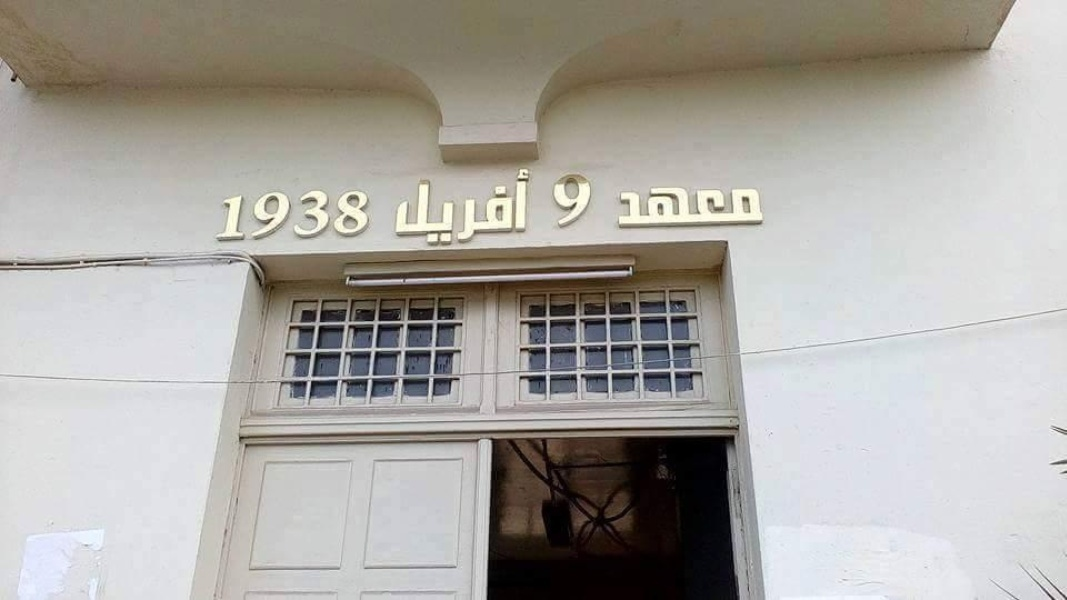text: (401, 167, 416, 248), (417, 167, 432, 248), (433, 167, 448, 248), (449, 167, 464, 248), (465, 167, 480, 248), (481, 167, 496, 248), (497, 167, 512, 248), (513, 167, 528, 248), (577, 173, 593, 231), (225, 183, 240, 242), (241, 183, 256, 242), (257, 183, 272, 242), (273, 183, 288, 242), (289, 183, 304, 242), (305, 183, 320, 242), (321, 183, 336, 242), (337, 183, 352, 242), (353, 183, 368, 242), (561, 173, 576, 231), (625, 187, 640, 228), (641, 187, 656, 228), (657, 187, 672, 228), (673, 187, 688, 228), (689, 187, 704, 228), (705, 187, 720, 228), (721, 187, 736, 228), (737, 187, 752, 228), (551, 173, 560, 231), (753, 187, 765, 228), (529, 167, 532, 248), (620, 187, 624, 228), (398, 167, 400, 248), (223, 183, 224, 242), (369, 183, 370, 242)
